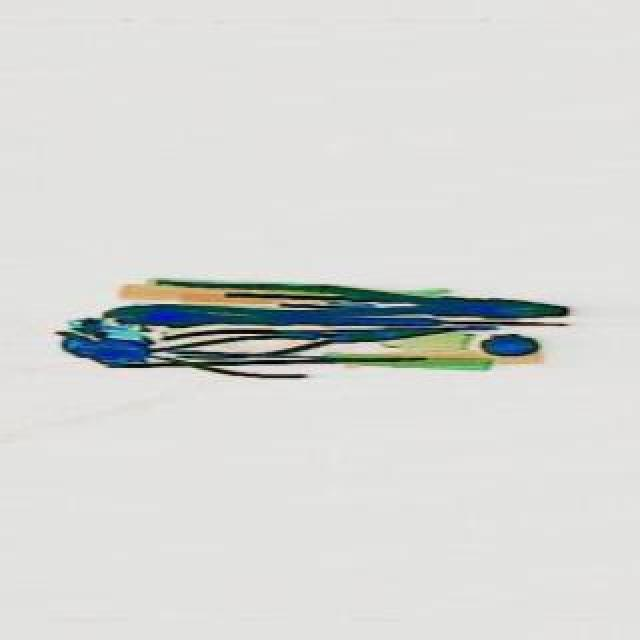wrench: (100, 278, 564, 330), (152, 314, 444, 364), (106, 326, 304, 380)
